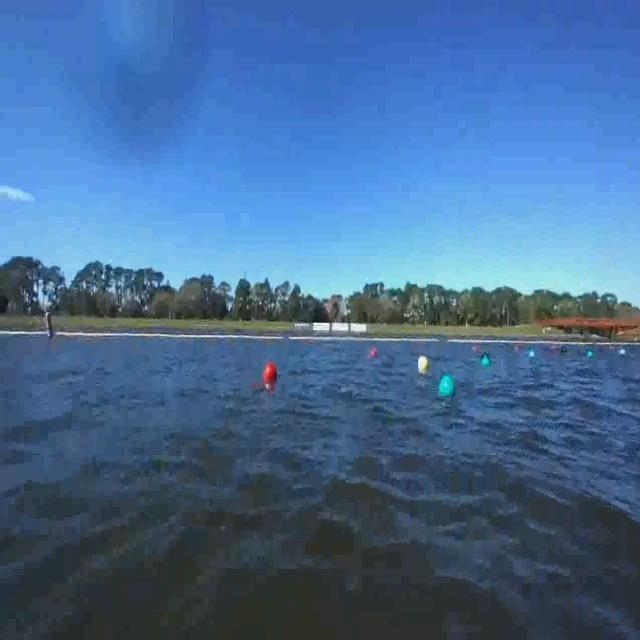green-buoy: (438, 372, 456, 398), (483, 356, 491, 368)
red-buoy: (266, 363, 278, 381), (369, 347, 379, 362)
yellow-buoy: (420, 356, 430, 370)
